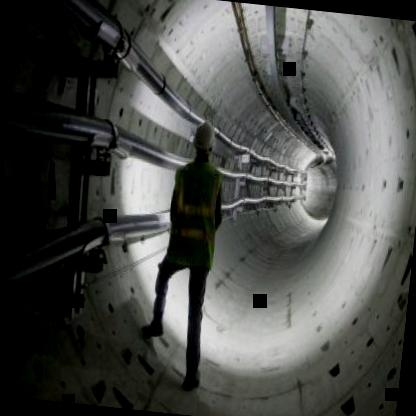helmet: (191, 120, 218, 166)
